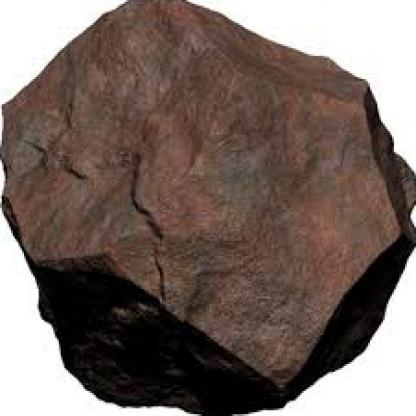Metamorphic_Marble: (2, 6, 414, 414)
